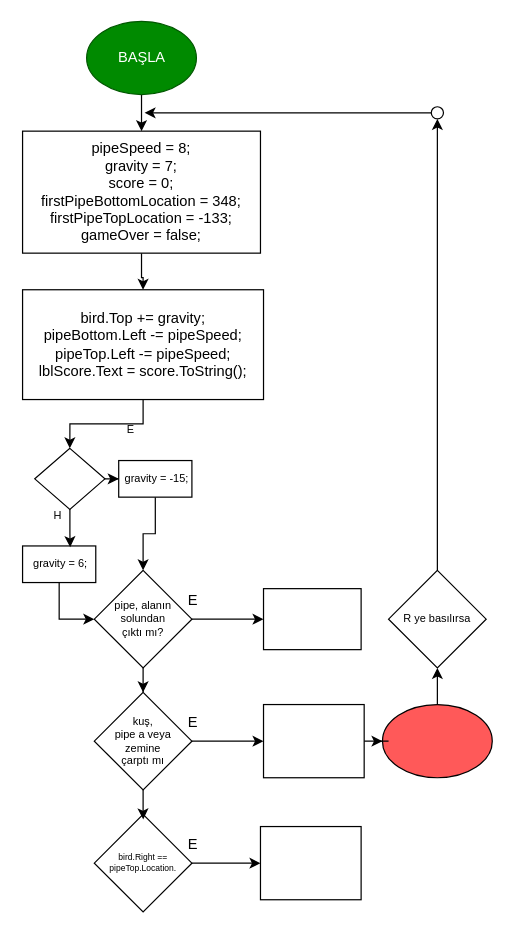
This 514x933 diagram has some shape labels left out. Here are the shapes that lost their labels. From the top down, the centre of each, then its label:
At (69,478): "space e basılı mı".
At (311,618): "pipe yeniden konumlandır".
At (313,740): "GameOver()".
At (436,740): "DUR".
At (310,862): "score++".
